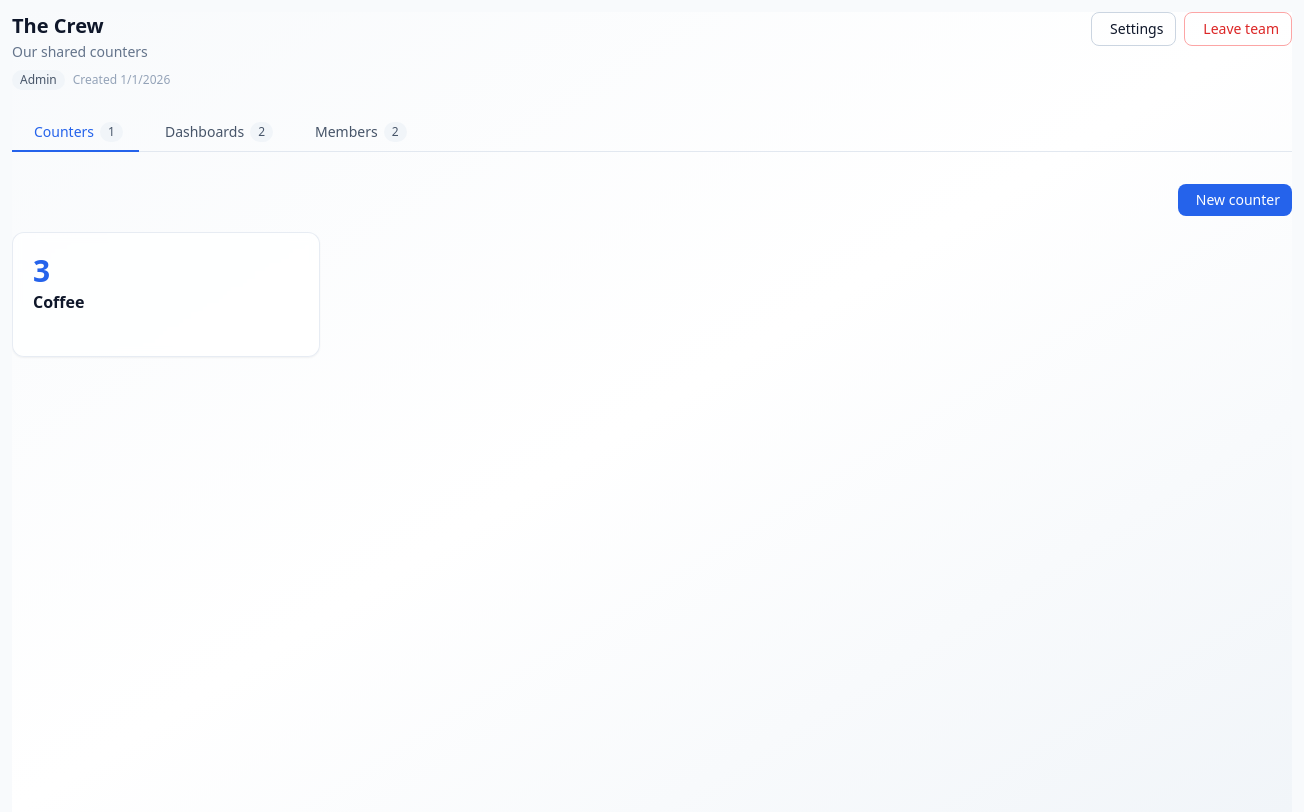
Test: Team page › shows invite, invitations and join link sections for managers
Click the tab "Members 2": (358, 133) [293,114,423,152]
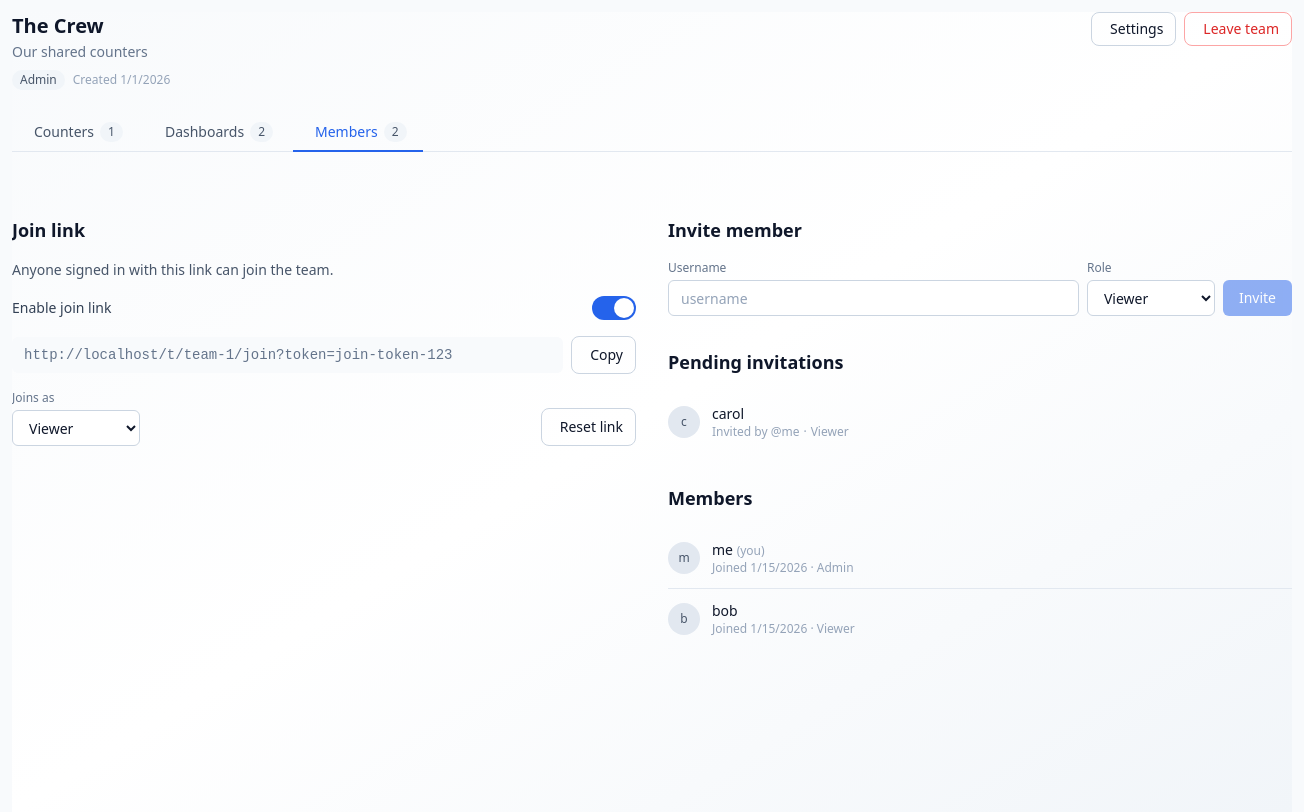
expect the heading "Invite member" is shown: met, box [668,218,802,242]
expect the heading "Pending invitations" is shown: met, box [668,350,844,374]
expect the heading "Join link" is shown: met, box [12,218,85,242]
